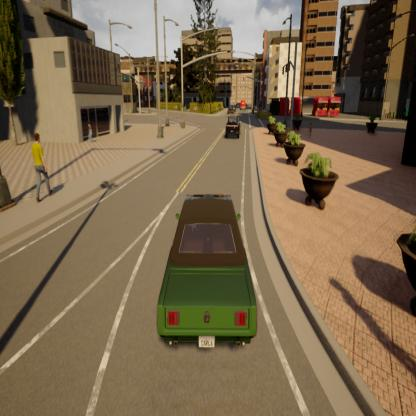Cars: (158, 193, 259, 350), (224, 119, 242, 139)
Pedestrian: (30, 132, 54, 200), (84, 121, 95, 144)
